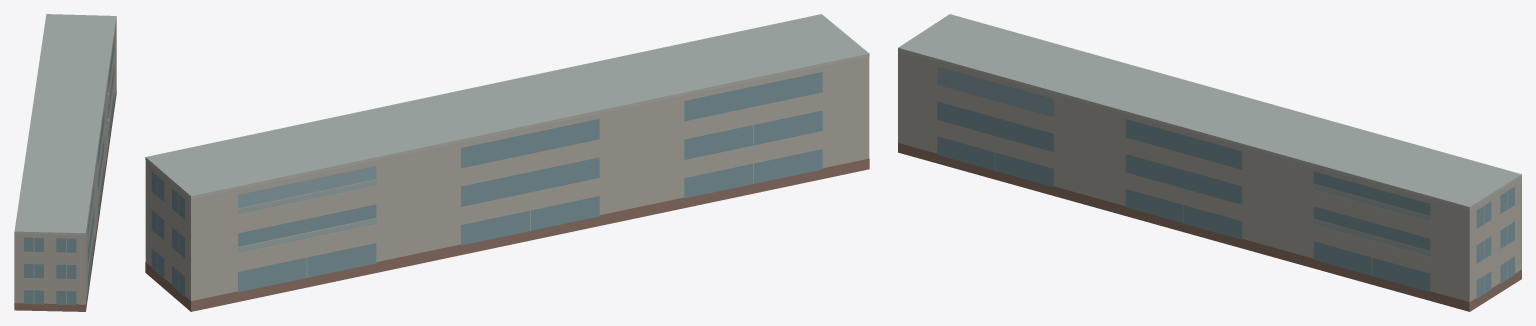
Rendered from survey-upis-33027648.glb.
3 views of the same model, side by side, from view 1: azimuth 30°, elevation 25°; view 2: azimuth 150°, elevation 25°; view 3: azimuth 270°, elevation 25° (orthographic). The views are drawn at different scales.
Parts seen in each view (by area): view 1: survey-upis-33027648.tmp; view 2: survey-upis-33027648.tmp; view 3: survey-upis-33027648.tmp.
Part boxes in pixels (bbox=[...]): survey-upis-33027648.tmp: bbox=[14, 14, 116, 311]; survey-upis-33027648.tmp: bbox=[145, 14, 869, 311]; survey-upis-33027648.tmp: bbox=[898, 14, 1521, 311].
Bounding box in the file's own units: 36.16 × 9.15 × 49.36.
